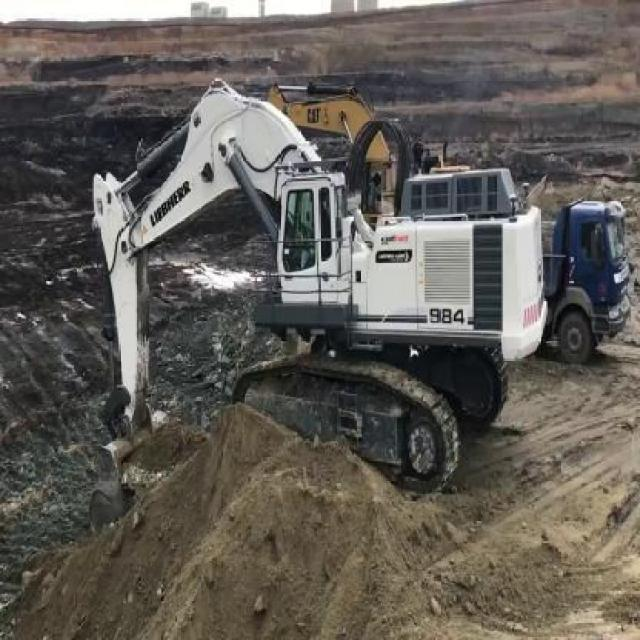Dump Truck: (543, 195, 631, 367)
Excavator: (84, 74, 550, 538)
